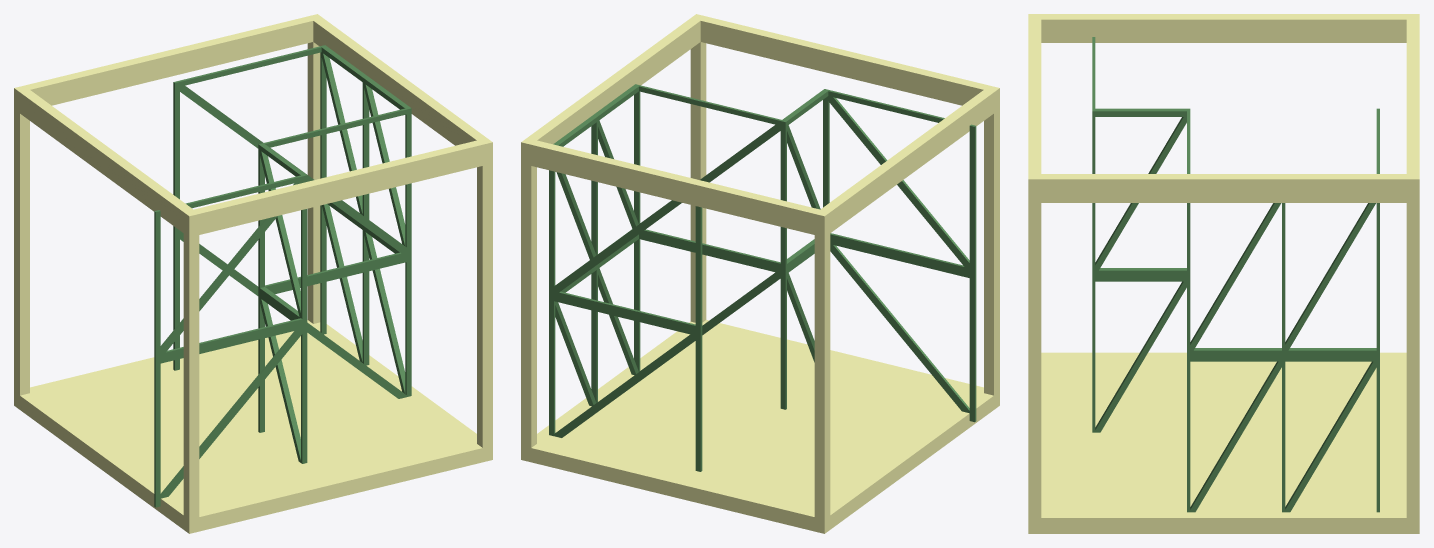
The picture shows the model from 3 angles, left to right: view 1: azimuth 30°, elevation 25°; view 2: azimuth 150°, elevation 25°; view 3: azimuth 270°, elevation 25°; orthographic projection. The views are drawn at different scales.
Visible parts, largest first — view 1: 物件_61, 物件_68, 物件_67, 物件_66, 物件_64, 物件_62, 物件_65, 物件_69, 物件_63, 物件_56, 物件_5, 物件_41 (+30 smaller); view 2: 物件_61, 物件_67, 物件_68, 物件_66, 物件_65, 物件_63, 物件_69, 物件_64, 物件_62, 物件_56, 物件_5, 物件_36 (+31 smaller); view 3: 物件_61, 物件_69, 物件_66, 物件_63, 物件_62, 物件_68, 物件_67, 物件_41, 物件_35, 物件_55, 物件_26, 物件_20 (+16 smaller).
Boxes of the visible parts, x1=… form: 物件_61: x1=14, y1=320, x2=492, y2=533; 物件_68: x1=184, y1=138, x2=492, y2=236; 物件_67: x1=14, y1=14, x2=320, y2=108; 物件_66: x1=14, y1=88, x2=197, y2=236; 物件_64: x1=183, y1=209, x2=199, y2=519; 物件_62: x1=477, y1=138, x2=492, y2=447; 物件_65: x1=14, y1=85, x2=29, y2=395; 物件_69: x1=309, y1=14, x2=492, y2=164; 物件_63: x1=307, y1=14, x2=322, y2=323; 物件_56: x1=156, y1=325, x2=303, y2=505; 物件_5: x1=156, y1=178, x2=304, y2=356; 物件_41: x1=364, y1=226, x2=405, y2=393; 物件_61: x1=521, y1=320, x2=999, y2=533; 物件_67: x1=521, y1=138, x2=830, y2=235; 物件_68: x1=691, y1=14, x2=999, y2=105; 物件_66: x1=814, y1=88, x2=999, y2=234; 物件_65: x1=814, y1=209, x2=830, y2=519; 物件_63: x1=521, y1=138, x2=536, y2=447; 物件_69: x1=521, y1=14, x2=702, y2=165; 物件_64: x1=984, y1=85, x2=999, y2=395; 物件_62: x1=690, y1=14, x2=706, y2=322; 物件_56: x1=830, y1=242, x2=973, y2=420; 物件_5: x1=827, y1=95, x2=974, y2=272; 物件_36: x1=552, y1=331, x2=699, y2=437; 物件_61: x1=1028, y1=352, x2=1419, y2=533; 物件_69: x1=1028, y1=174, x2=1419, y2=202; 物件_66: x1=1029, y1=14, x2=1419, y2=42; 物件_63: x1=1406, y1=174, x2=1419, y2=517; 物件_62: x1=1028, y1=174, x2=1041, y2=517; 物件_68: x1=1028, y1=14, x2=1041, y2=202; 物件_67: x1=1406, y1=15, x2=1419, y2=202; 物件_41: x1=1190, y1=356, x2=1284, y2=512; 物件_35: x1=1285, y1=358, x2=1379, y2=512; 物件_55: x1=1095, y1=278, x2=1186, y2=432; 物件_26: x1=1283, y1=203, x2=1375, y2=354; 物件_20: x1=1188, y1=203, x2=1281, y2=354.
Bounding box in the file's own units: 48.8 × 48 × 48.
